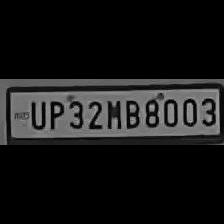0: (160, 95, 180, 127), (178, 96, 198, 127)
2: (85, 97, 103, 129)
3: (64, 97, 84, 129), (198, 94, 218, 126)
8: (140, 94, 160, 128)
B: (120, 96, 140, 130)
M: (102, 96, 122, 130)
P: (44, 96, 64, 130)
U: (26, 97, 46, 129)
